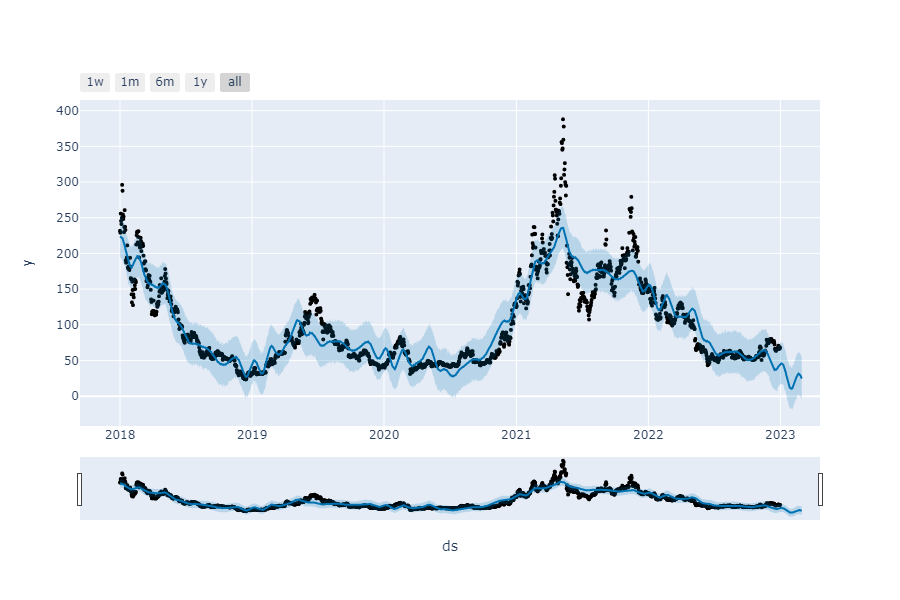

The page's visual inventory and layout, read from the dashboard file:
{"tool":"powerbi","page":{"name":"Page 2","canvas":[1280,720],"ordinal":1},"visuals":[{"type":"pythonVisual","box":[10,0,280,280],"z":0},{"type":"pythonVisual","box":[10,290,280,280],"z":1}]}

Visuals, with their boxes on the page's 1280x720 design canvas (x1, y1, x2, y2). These are canvas units, not pixel positions in the 900x600 screenshot, which may show the page scaled, cropped or inside an application window:
pythonVisual: crop(10, 0, 290, 280)
pythonVisual: crop(10, 290, 290, 570)
